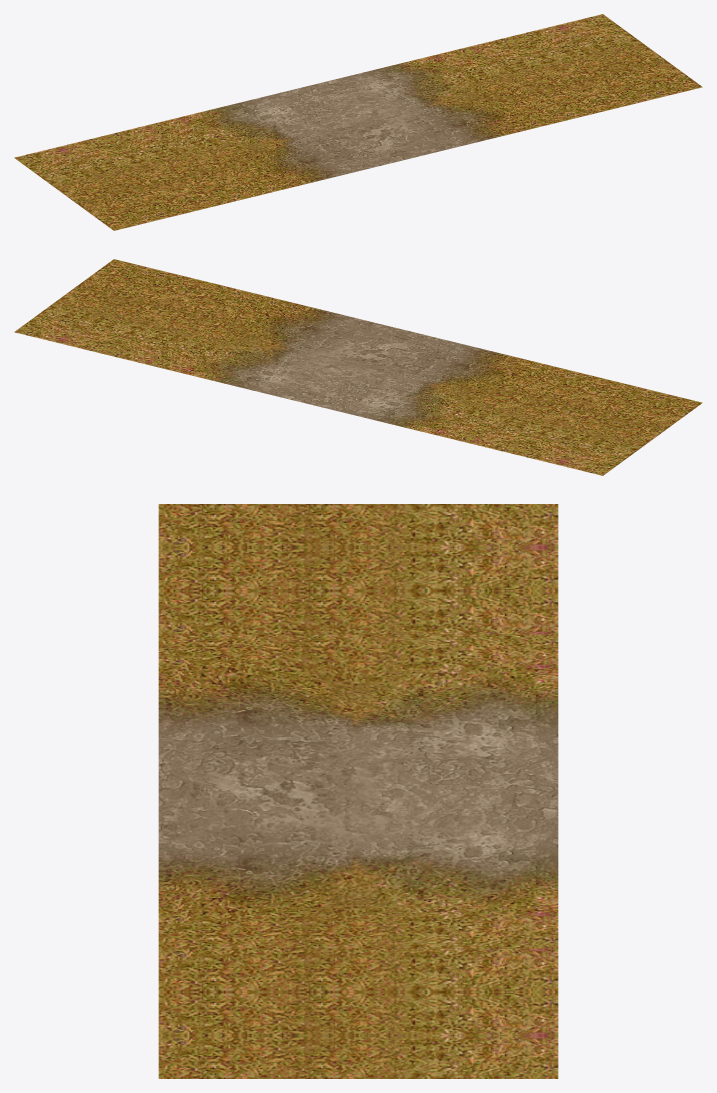
The model's file is FH_Env_Dibiao_01.FBX.
The picture shows the model from 3 angles, top to bottom: view 1: azimuth 30°, elevation 25°; view 2: azimuth 150°, elevation 25°; view 3: azimuth 270°, elevation 25°; orthographic projection. The views are drawn at different scales.
Visible parts, largest first — view 1: Plane31, Object63, Object64, Object62; view 2: Plane31, Object63, Object64, Object62; view 3: Plane31, Object63, Object64, Object62.
Boxes of the visible parts, box(x1,y1,x2,y2) form: Plane31: box(255, 46, 569, 172); Object63: box(14, 125, 246, 230); Object64: box(470, 14, 702, 119); Object62: box(147, 99, 353, 198); Plane31: box(147, 291, 461, 417); Object63: box(470, 370, 702, 475); Object64: box(14, 259, 246, 364); Object62: box(363, 344, 569, 443); Plane31: box(158, 739, 558, 948); Object63: box(158, 504, 558, 634); Object64: box(158, 948, 558, 1078); Object62: box(158, 634, 558, 738).
Bounding box in the file's own units: 34.01 × 5.5e-05 × 10.
